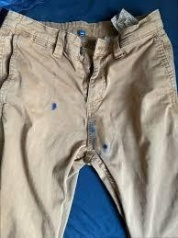ink: (87, 119, 95, 133), (52, 103, 57, 110), (103, 144, 107, 148)
